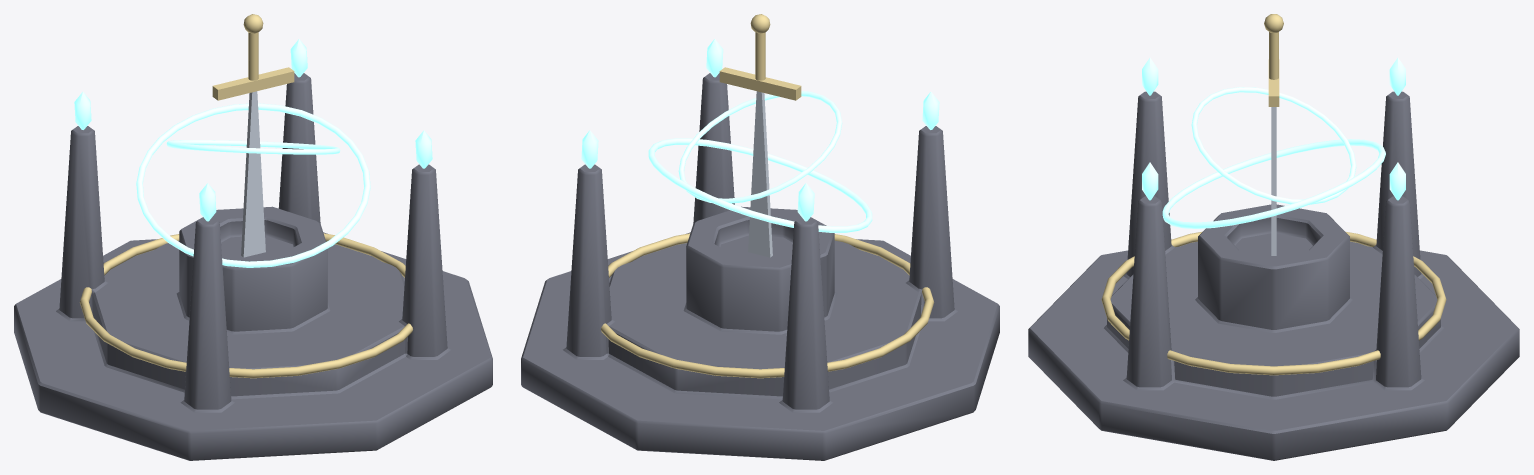
The model's file is fantasy-runic-sword-altar-v12.glb.
The picture shows the model from 3 angles, left to right: view 1: azimuth 30°, elevation 25°; view 2: azimuth 150°, elevation 25°; view 3: azimuth 270°, elevation 25°; orthographic projection.
Parts seen in each view (by area): view 1: RunicAltarMonolith, ArcaneManaRings, GoldSwordHiltAndRim, MythrilGreatswordBlade; view 2: RunicAltarMonolith, ArcaneManaRings, GoldSwordHiltAndRim, MythrilGreatswordBlade; view 3: RunicAltarMonolith, ArcaneManaRings, GoldSwordHiltAndRim, MythrilGreatswordBlade.
Boxes of the visible parts, left/top/right/bottom form: RunicAltarMonolith: left=14, top=73, right=492, bottom=460; ArcaneManaRings: left=74, top=39, right=432, bottom=267; GoldSwordHiltAndRim: left=79, top=14, right=412, bottom=378; MythrilGreatswordBlade: left=241, top=91, right=265, bottom=257; RunicAltarMonolith: left=521, top=73, right=999, bottom=460; ArcaneManaRings: left=581, top=39, right=939, bottom=232; GoldSwordHiltAndRim: left=601, top=14, right=934, bottom=378; MythrilGreatswordBlade: left=748, top=91, right=772, bottom=257; RunicAltarMonolith: left=1028, top=91, right=1519, bottom=460; ArcaneManaRings: left=1142, top=57, right=1405, bottom=228; GoldSwordHiltAndRim: left=1101, top=14, right=1446, bottom=375; MythrilGreatswordBlade: left=1271, top=107, right=1276, bottom=255.
Size of the model in its own units: 2.69 by 2.08 by 2.69.
